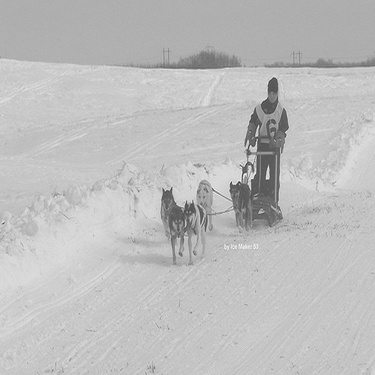dog: (208, 184, 258, 239), (181, 176, 223, 229), (161, 204, 191, 274), (177, 198, 211, 259), (152, 181, 179, 241)
